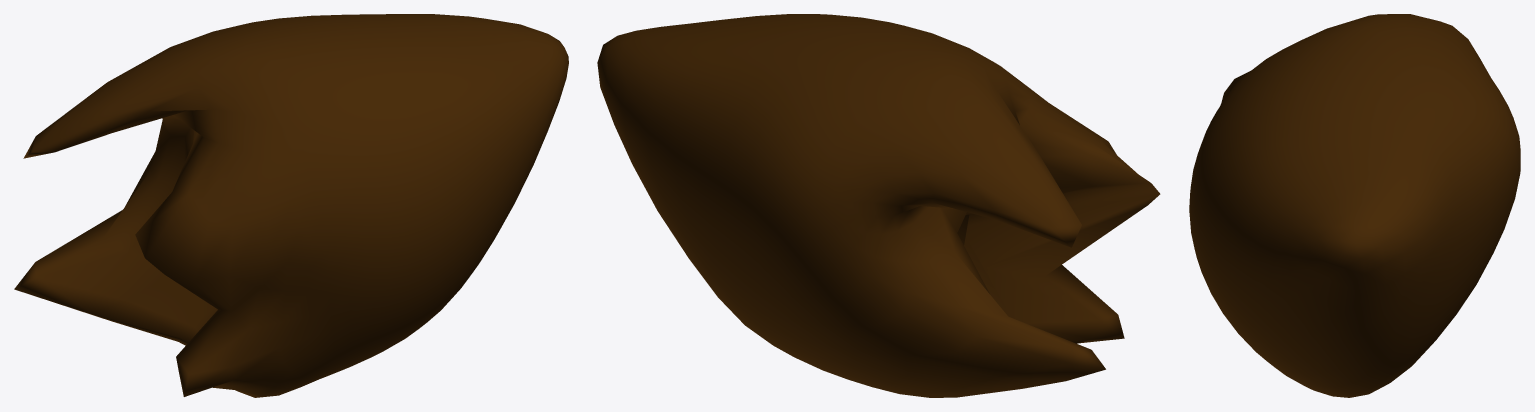
The model's file is fire wolf fur.fbx.
The picture shows the model from 3 angles, left to right: view 1: azimuth 30°, elevation 25°; view 2: azimuth 150°, elevation 25°; view 3: azimuth 270°, elevation 25°; orthographic projection. The views are drawn at different scales.
Parts seen in each view (by area): view 1: Icosphere.002; view 2: Icosphere.002; view 3: Icosphere.002.
Boxes of the visible parts, x1,y1,x2,y2 form: Icosphere.002: (14,14,568,397); Icosphere.002: (597,14,1160,397); Icosphere.002: (1189,14,1520,397).
Size of the model in its own units: 52.49 by 31.71 by 29.75.
